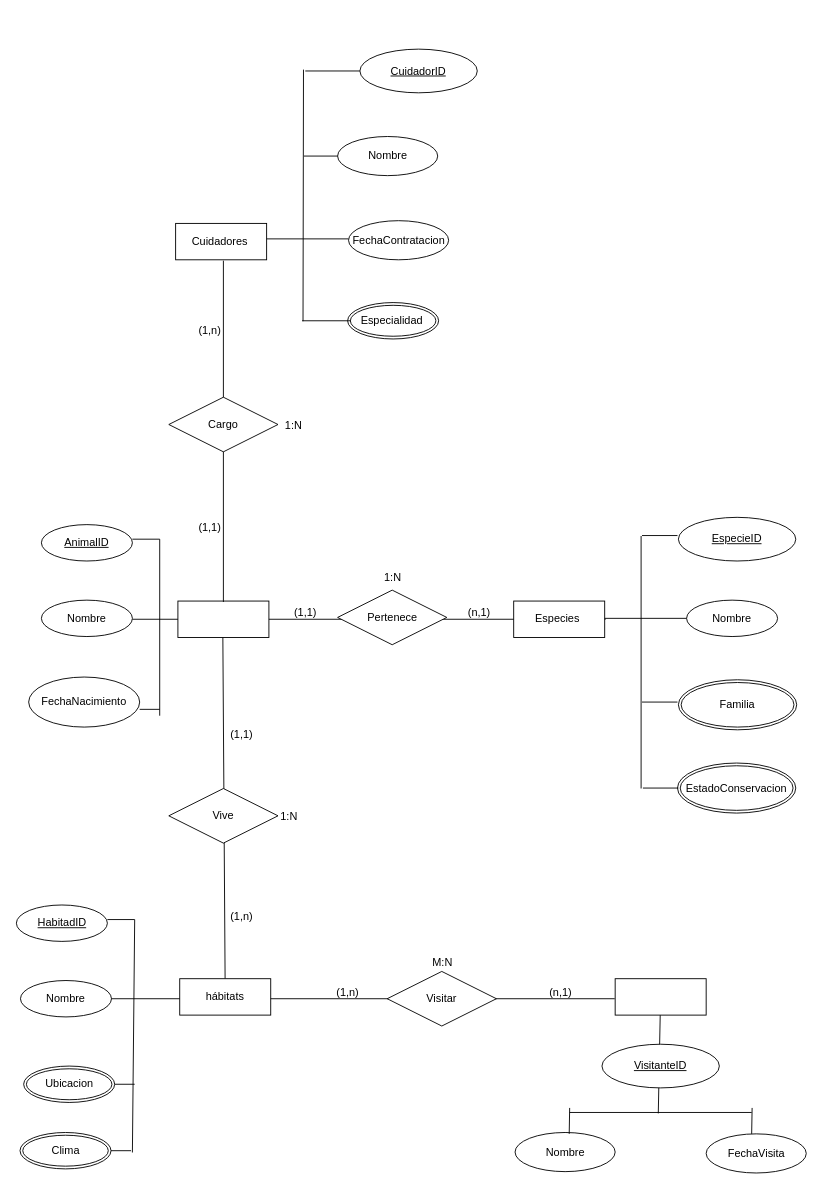
Image size: 822x1188. Some labels were removed from this diagram. The centre of each missing label's shape, as x and y in pixels:
Animal: [223,618]
Visitantes: [660,996]
